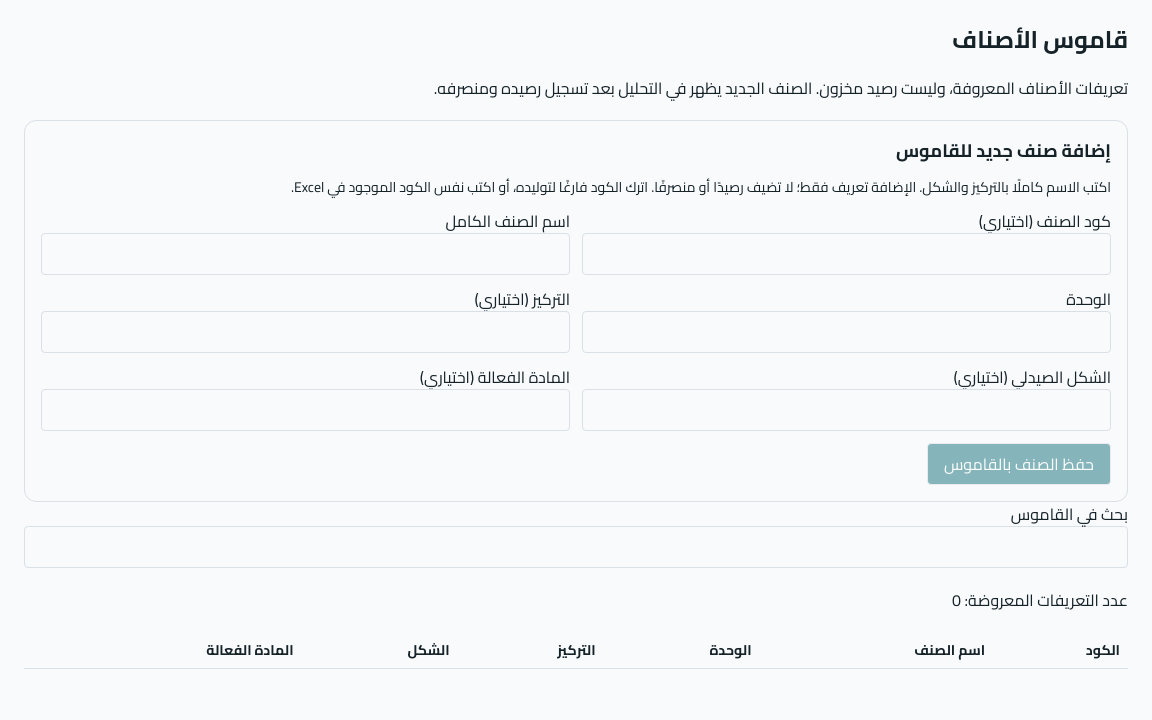
Test: retains entered metadata and shows a server denial without pretending to save
This screenshot has width=1152, height=720.
In the field labelled "اسم الصنف الكامل": (306, 254) [41,233,570,275], type "Training 200 mg tablet"
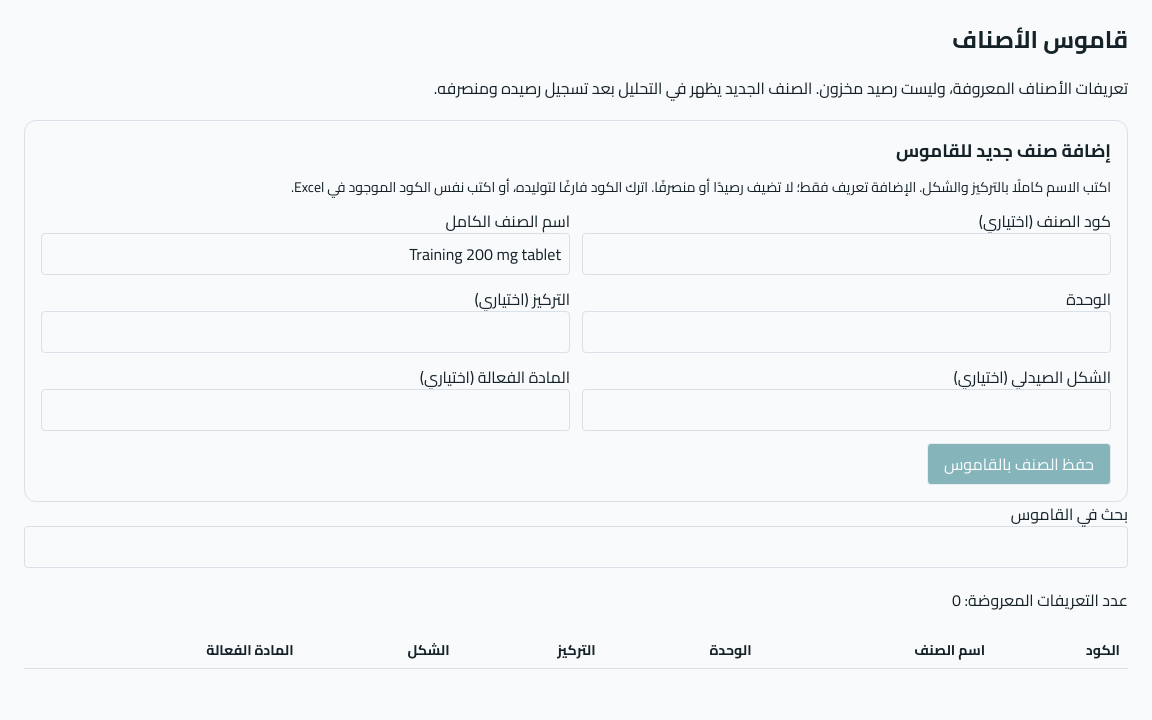
In the field labelled "الوحدة": (846, 332) [582,311,1111,353], type "قرص"
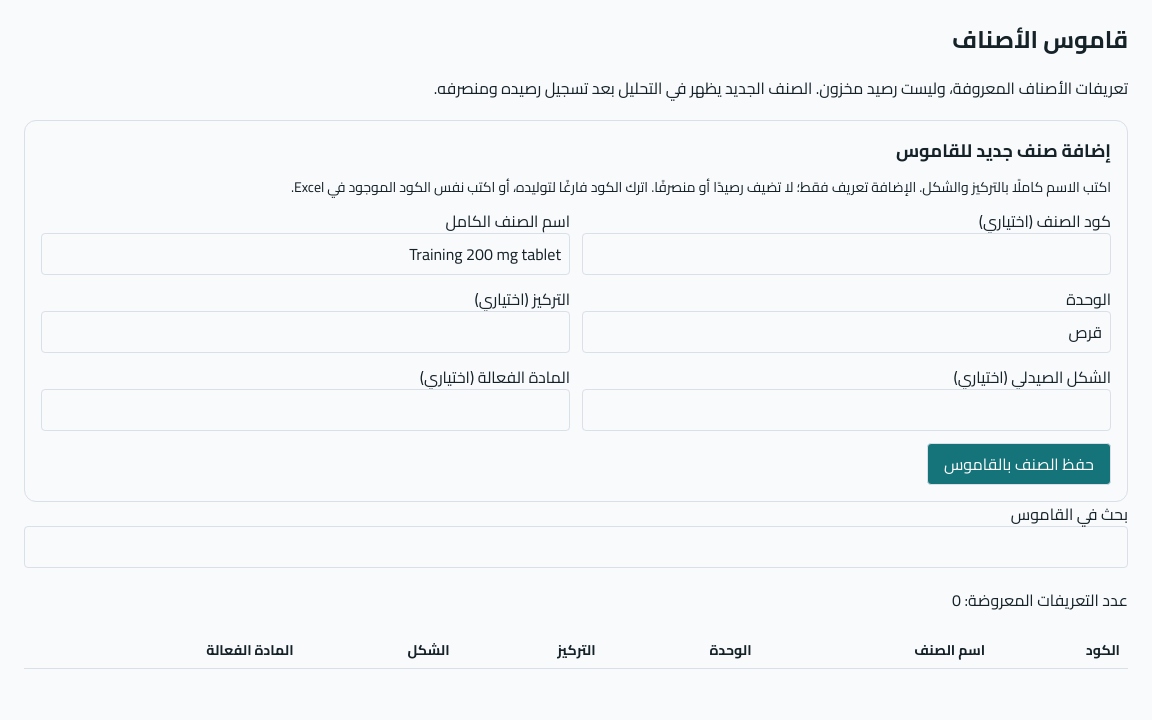
Click the button "حفظ الصنف بالقاموس": (1019, 464) [927,443,1111,485]
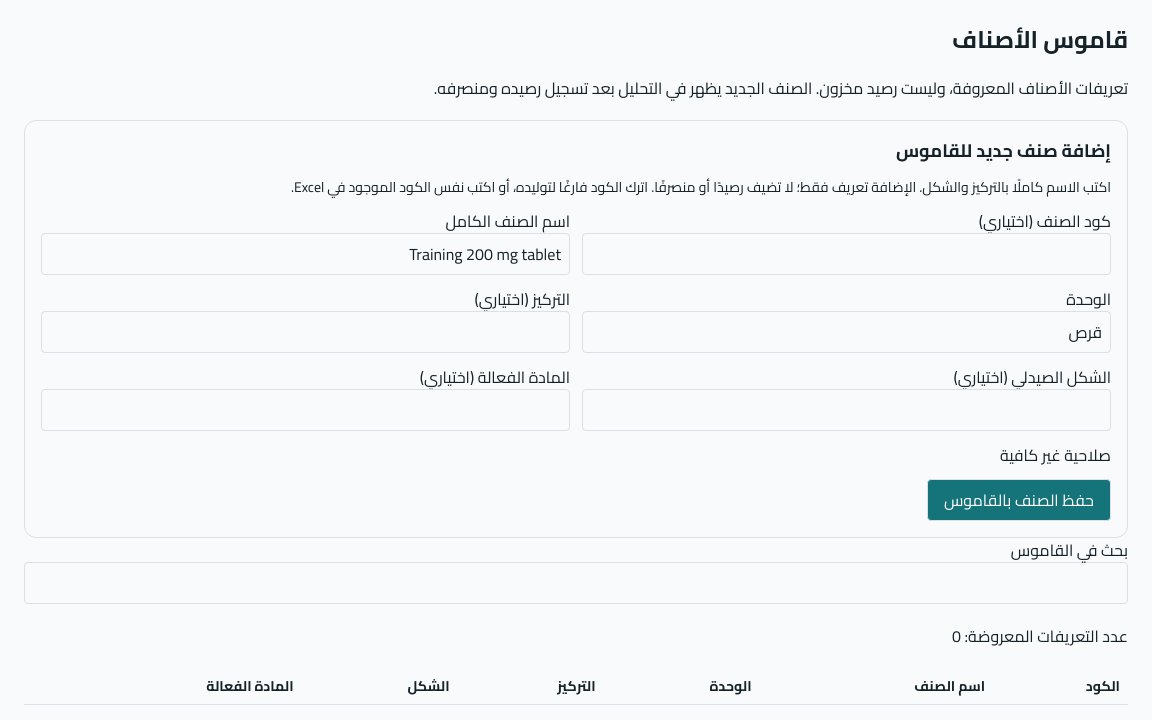
Now the message reads "صلاحية غير كافية", box [1000,440,1111,470]
